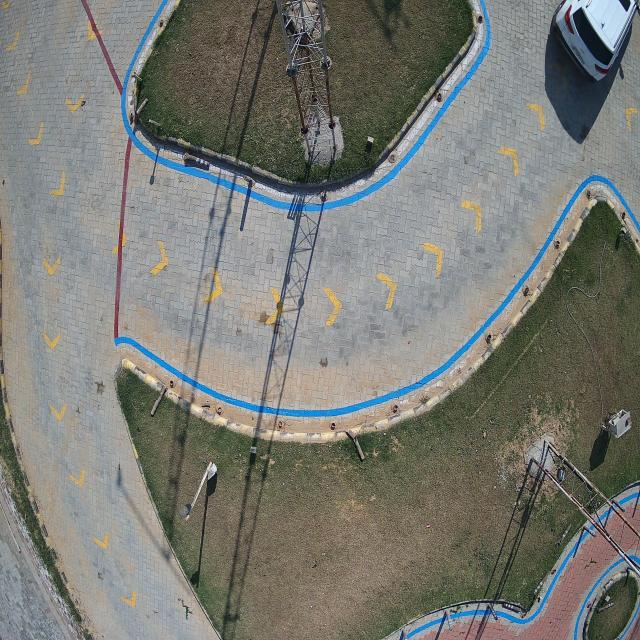car: (555, 0, 640, 87)
